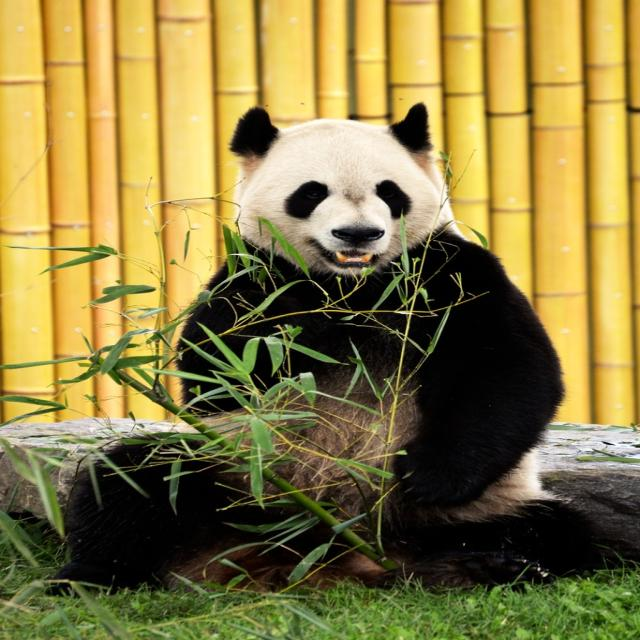panda: (72, 98, 619, 589)
